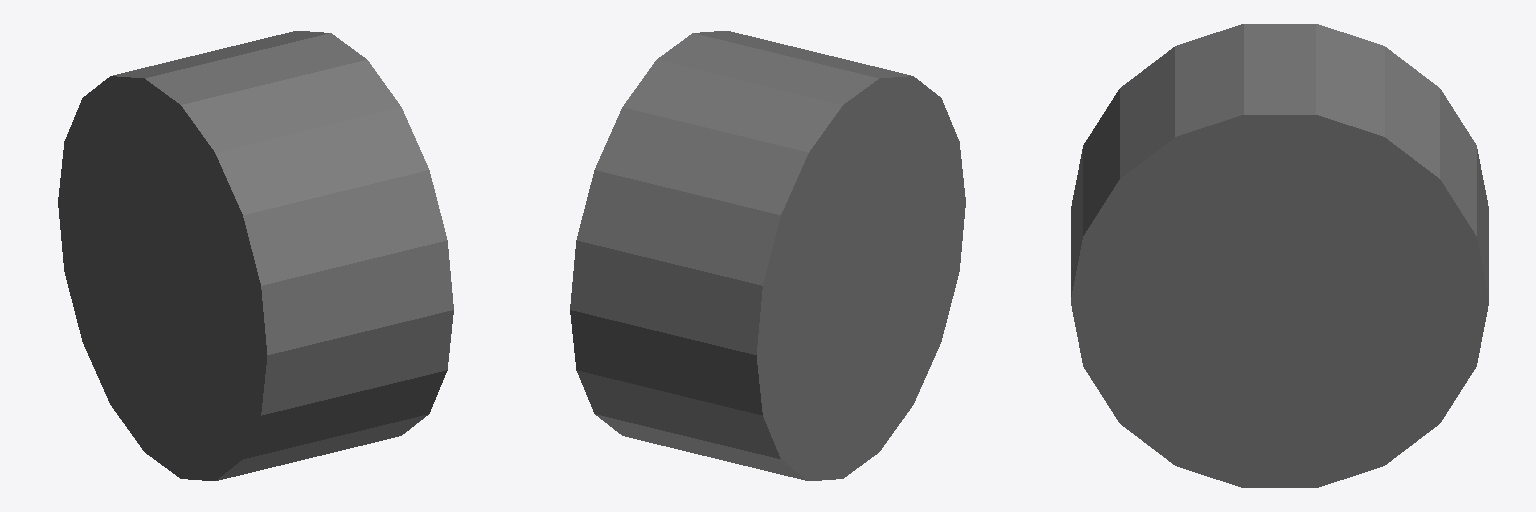
Rendered from carwheel.obj.
3 views of the same model, side by side, from view 1: azimuth 30°, elevation 25°; view 2: azimuth 150°, elevation 25°; view 3: azimuth 270°, elevation 25° (orthographic).
Parts seen in each view (by area): view 1: wheel; view 2: wheel; view 3: wheel.
Boxes of the visible parts, box(x1,y1,x2,y2) form: wheel: box(58, 31, 453, 480); wheel: box(570, 31, 965, 480); wheel: box(1071, 24, 1488, 487).
Bounding box in the file's own units: 16.1 × 30.83 × 31.31.